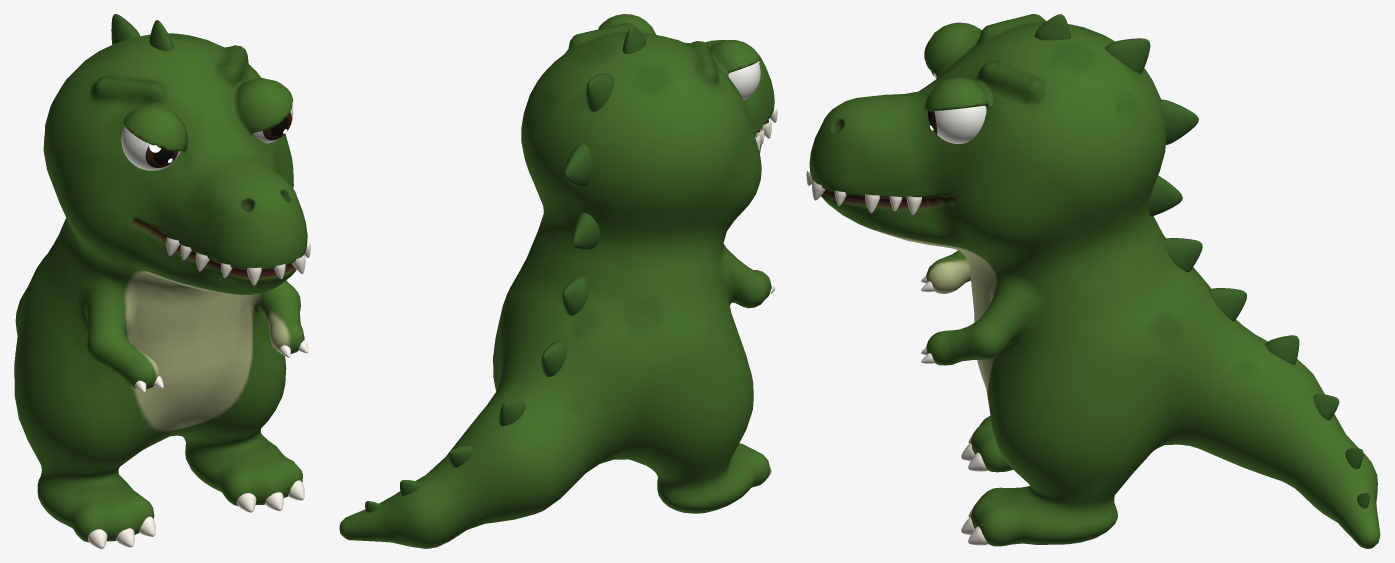
The model's file is dino.glb.
3 views of the same model, side by side, from view 1: azimuth 30°, elevation 25°; view 2: azimuth 150°, elevation 25°; view 3: azimuth 270°, elevation 25° (orthographic). The views are drawn at different scales.
Visible parts, largest first — view 1: dino-body, tooth+claw, spike, eye-white, eye-iris, eye-pupil; view 2: dino-body, spike, eye-white; view 3: dino-body, spike, tooth+claw, eye-white.
Boxes of the visible parts, <box> form: dino-body: <box>14,33,307,542</box>; tooth+claw: <box>87,237,310,548</box>; spike: <box>111,14,173,51</box>; eye-white: <box>121,106,293,170</box>; eye-iris: <box>145,112,291,167</box>; eye-pupil: <box>153,117,288,163</box>; dino-body: <box>339,14,774,548</box>; spike: <box>365,27,645,512</box>; eye-white: <box>728,62,760,99</box>; dino-body: <box>809,14,1380,548</box>; spike: <box>1034,14,1370,508</box>; tooth+claw: <box>806,170,987,545</box>; eye-white: <box>933,73,986,143</box>.
Bounding box in the file's own units: 1.25 × 2.07 × 2.23.
